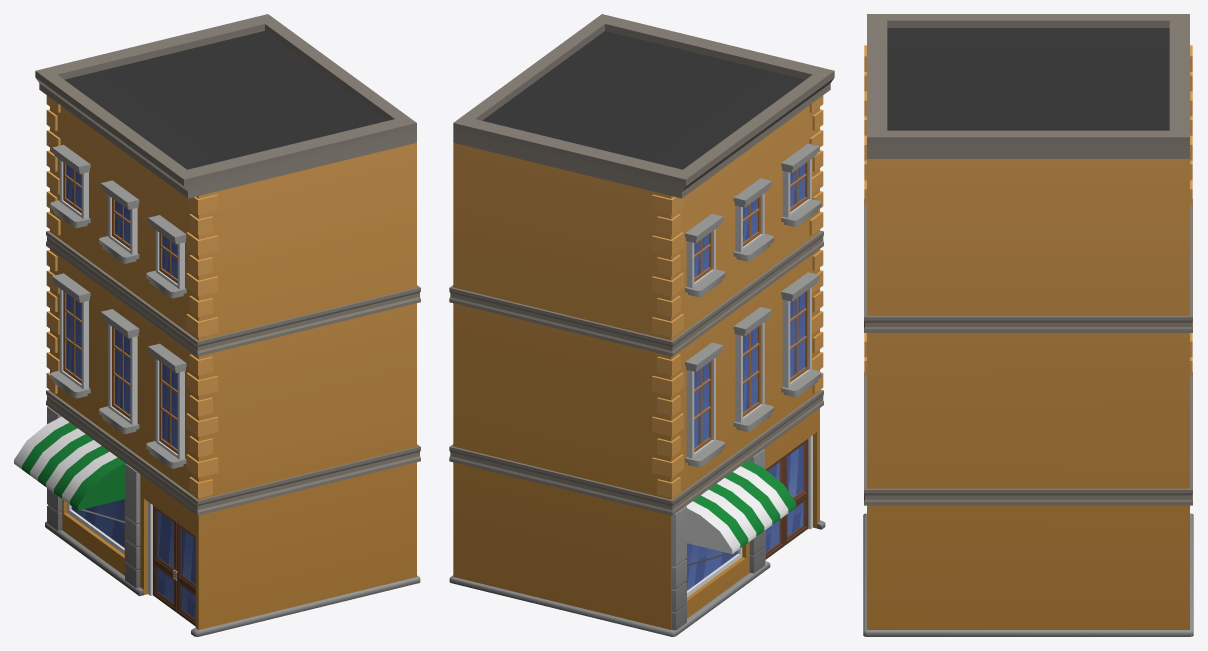
File: Building_8_1_B.fbx
The picture shows the model from 3 angles, left to right: view 1: azimuth 30°, elevation 25°; view 2: azimuth 150°, elevation 25°; view 3: azimuth 270°, elevation 25°; orthographic projection. The views are drawn at different scales.
Parts seen in each view (by area): view 1: Building 8_1_B; view 2: Building 8_1_B; view 3: Building 8_1_B.
Part boxes in pixels (x1=…): Building 8_1_B: x1=14, y1=14, x2=420, y2=636; Building 8_1_B: x1=449, y1=14, x2=834, y2=636; Building 8_1_B: x1=863, y1=14, x2=1193, y2=636.
Bounding box in the file's own units: 681 × 1108 × 667.
